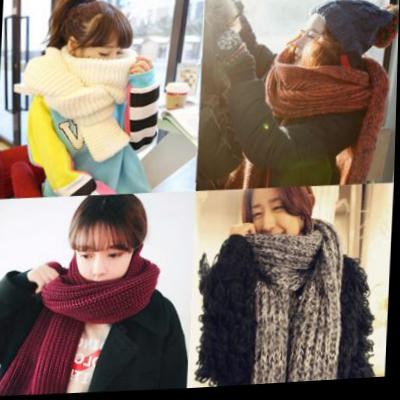NONE: (250, 193, 309, 255), (290, 26, 337, 78)
OK: (78, 35, 130, 88)
WRONG: (78, 235, 140, 295)
